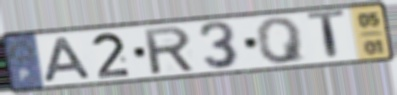2: (90, 31, 132, 80)
3: (198, 20, 243, 71)
A: (42, 35, 96, 84)
Q: (253, 15, 309, 66)
R: (141, 24, 198, 77)
T: (305, 8, 348, 63)
